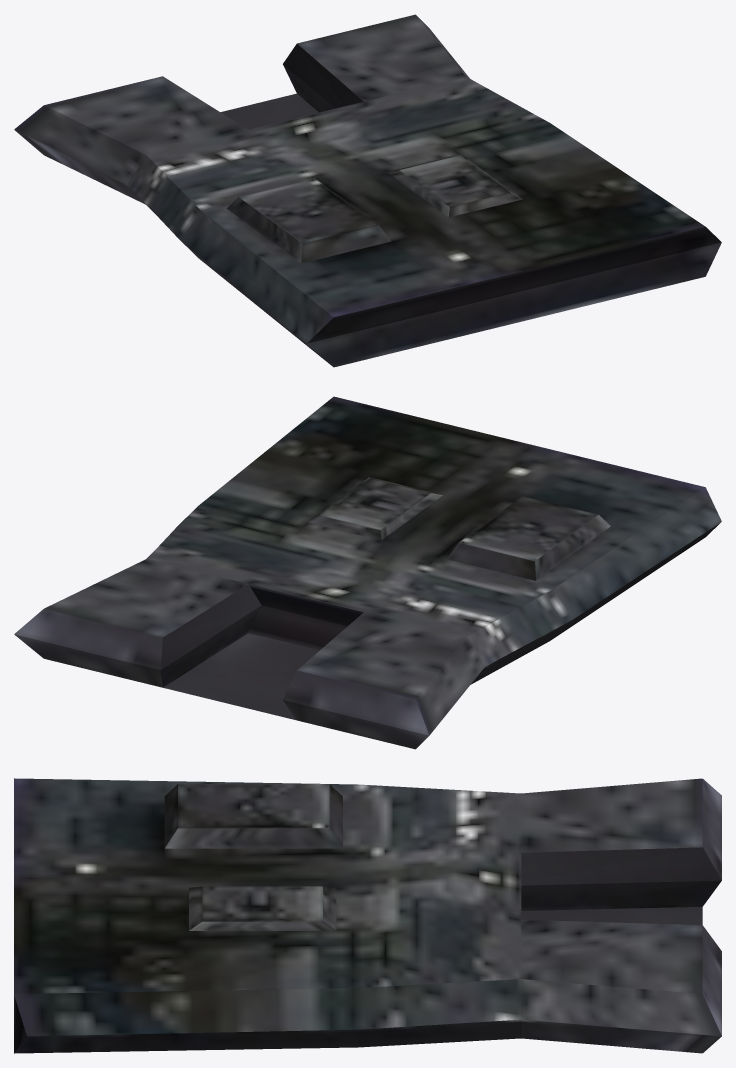
Rendered from BallisticVest01.obj.
3 views of the same model, one above another, from view 1: azimuth 30°, elevation 25°; view 2: azimuth 150°, elevation 25°; view 3: azimuth 270°, elevation 25° (orthographic). The views are drawn at different scales.
Visible parts, largest first — view 1: BallisticVest01; view 2: BallisticVest01; view 3: BallisticVest01.
Part boxes in pixels (x1=…): BallisticVest01: x1=14, y1=14, x2=721, y2=367; BallisticVest01: x1=14, y1=396, x2=721, y2=749; BallisticVest01: x1=14, y1=778, x2=721, y2=1053.
Bounding box in the file's own units: 0.7854 × 0.1154 × 0.9758.
